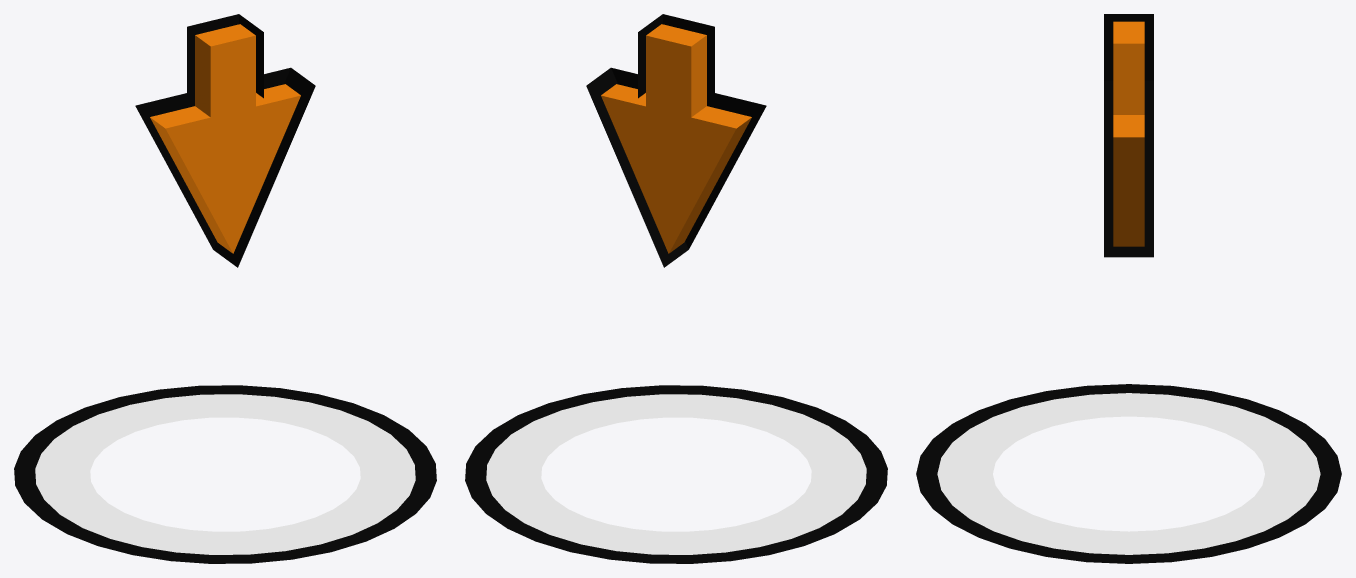
File: goal.glb
3 views of the same model, side by side, from view 1: azimuth 30°, elevation 25°; view 2: azimuth 150°, elevation 25°; view 3: azimuth 270°, elevation 25° (orthographic).
Visible parts, largest first — view 1: Goal.001, GoalPointer, Goal, GoalPointer.001; view 2: Goal.001, GoalPointer, Goal, GoalPointer.001; view 3: Goal.001, Goal, GoalPointer, GoalPointer.001.
Boxes of the visible parts, left/top/right/bottom form: Goal.001: left=35, top=394, right=415, bottom=554; GoalPointer: left=150, top=24, right=300, bottom=253; Goal: left=14, top=385, right=436, bottom=563; GoalPointer.001: left=135, top=14, right=315, bottom=267; Goal.001: left=486, top=394, right=866, bottom=554; GoalPointer: left=601, top=24, right=751, bottom=253; Goal: left=465, top=385, right=887, bottom=563; GoalPointer.001: left=586, top=14, right=766, bottom=267; Goal.001: left=937, top=393, right=1320, bottom=554; Goal: left=916, top=384, right=1341, bottom=563; GoalPointer: left=1113, top=21, right=1144, bottom=246; GoalPointer.001: left=1104, top=14, right=1153, bottom=257.
Size of the model in its own units: 1.8 by 2.09 by 1.8.
